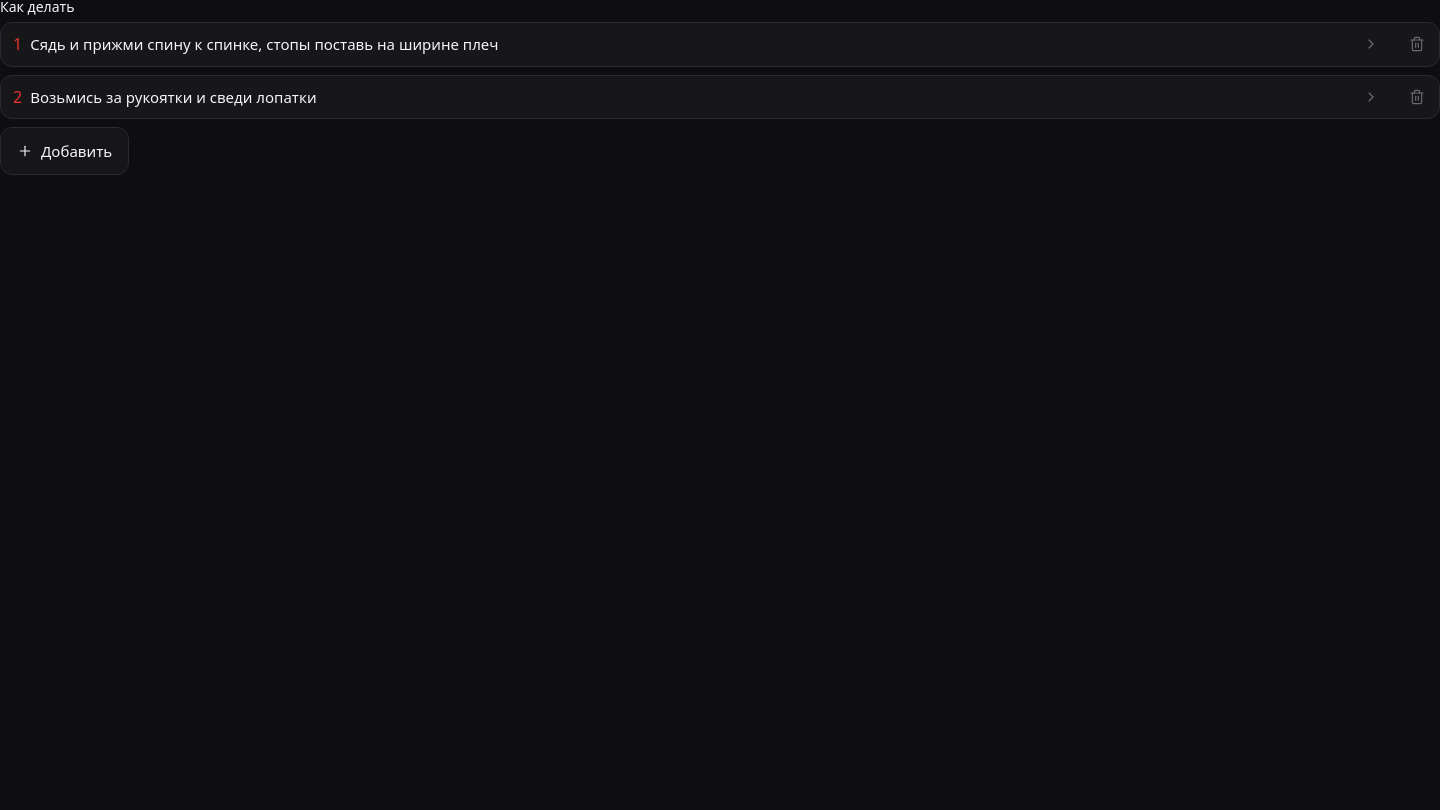
Test case: касание пункта открывает окно с полным текстом и многострочным полем
The image size is (1440, 810).
Click the text "Возьмись за рукоятки и сведи лопатки".
click(173, 96)  # box [30,86,317,106]
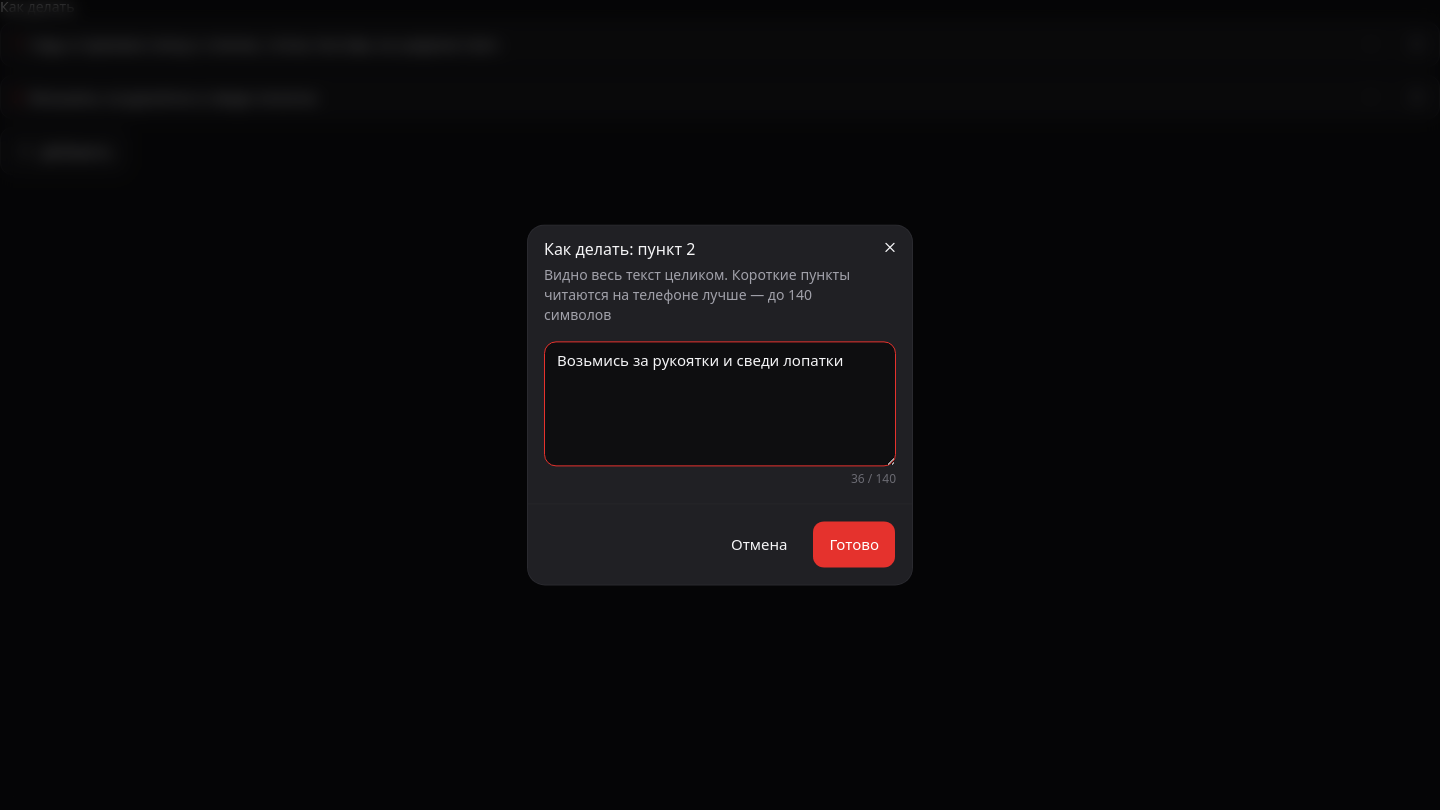
Expected: the dialog shows "Как делать: пункт 2", [528,225,912,585]
Expected: the text box named "Текст пункта 2" holds "Возьмись за рукоятки и сведи лопатки", [544,341,896,466]
